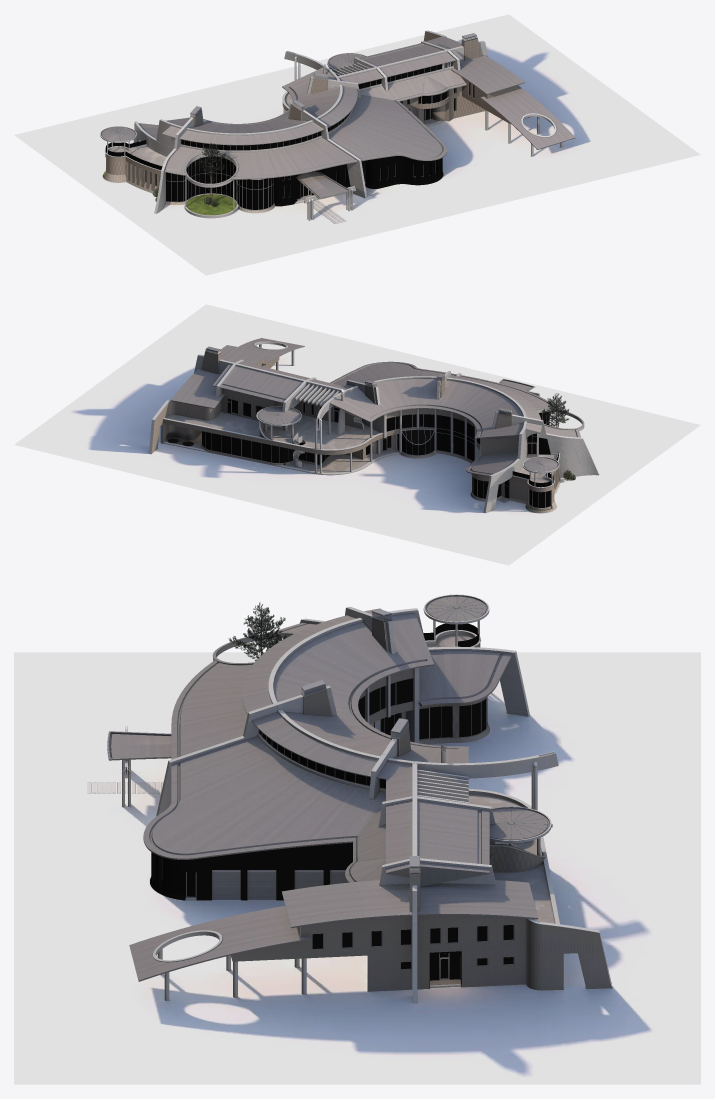
The model's file is pushkin.gltf.
The picture shows the model from 3 angles, top to bottom: view 1: azimuth 30°, elevation 25°; view 2: azimuth 150°, elevation 25°; view 3: azimuth 270°, elevation 25°; orthographic projection. The views are drawn at different scales.
Visible parts, largest first — view 1: ground, roof, white_wall, chess_wall, glass, metall, ground_stiff, trees, floor; view 2: ground, roof, white_wall, chess_wall, glass, floor, metall, trees; view 3: ground, roof, chess_wall, white_wall, glass, metall, floor, trees, ground_stiff.
Part boxes in pixels (box(x1,y1,x2,y2)): ground: box(14, 14, 700, 275); roof: box(101, 36, 575, 198); white_wall: box(100, 30, 562, 220); chess_wall: box(103, 31, 532, 213); glass: box(105, 64, 474, 209); metall: box(105, 33, 477, 210); ground_stiff: box(103, 171, 379, 223); trees: box(152, 143, 225, 206); floor: box(109, 93, 438, 201); ground: box(14, 304, 700, 565); roof: box(171, 338, 584, 476); white_wall: box(149, 341, 598, 512); chess_wall: box(151, 350, 560, 513); glass: box(202, 399, 558, 507); floor: box(165, 412, 557, 502); metall: box(201, 346, 550, 508); trees: box(542, 393, 575, 480); ground: box(14, 652, 700, 1084); roof: box(107, 595, 550, 981); chess_wall: box(150, 618, 611, 991); white_wall: box(122, 594, 612, 1003); glass: box(187, 623, 513, 978); metall: box(162, 609, 514, 979); floor: box(240, 634, 554, 985); trees: box(228, 602, 286, 660); ground_stiff: box(87, 782, 163, 793).
Bounding box in the file's own units: 104 × 14.86 × 69.74.
Materials: 10 (8 with a texture image).
